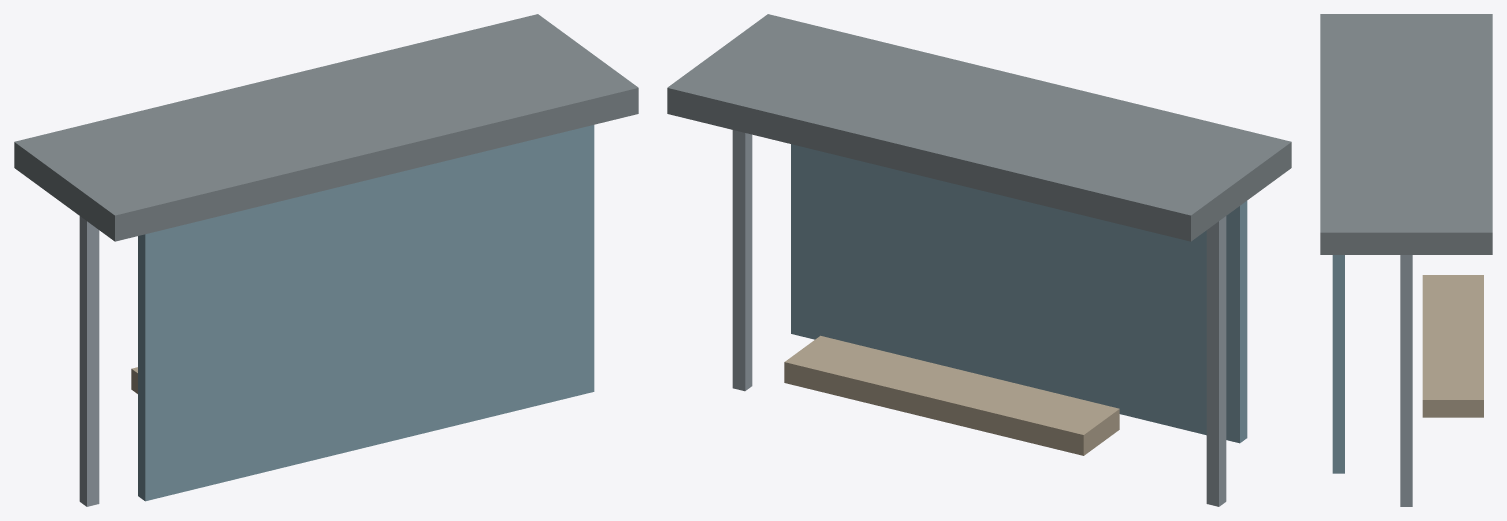
The model's file is prop_bus_stop.glb.
3 renders of one model, left to right at view 1: azimuth 30°, elevation 25°; view 2: azimuth 150°, elevation 25°; view 3: azimuth 270°, elevation 25°, orthographic. The views are drawn at different scales.
Parts seen in each view (by area): view 1: prop_bus_stop_glass, prop_bus_stop_metal, prop_bus_stop_steel; view 2: prop_bus_stop_glass, prop_bus_stop_metal, prop_bus_stop_brown, prop_bus_stop_steel; view 3: prop_bus_stop_metal, prop_bus_stop_brown, prop_bus_stop_steel, prop_bus_stop_glass.
Boxes of the visible parts, box(x1,y1,x2,y2) form: prop_bus_stop_glass: box(138, 125, 594, 501); prop_bus_stop_metal: box(14, 14, 638, 241); prop_bus_stop_steel: box(79, 216, 99, 506); prop_bus_stop_glass: box(791, 144, 1247, 443); prop_bus_stop_metal: box(667, 14, 1291, 241); prop_bus_stop_brown: box(784, 335, 1119, 455); prop_bus_stop_steel: box(732, 130, 1226, 506); prop_bus_stop_metal: box(1320, 14, 1492, 254); prop_bus_stop_brown: box(1422, 275, 1483, 417); prop_bus_stop_steel: box(1400, 255, 1412, 506); prop_bus_stop_glass: box(1332, 255, 1344, 473).
Bounding box in the file's own units: 4.2 × 2.53 × 1.4.
